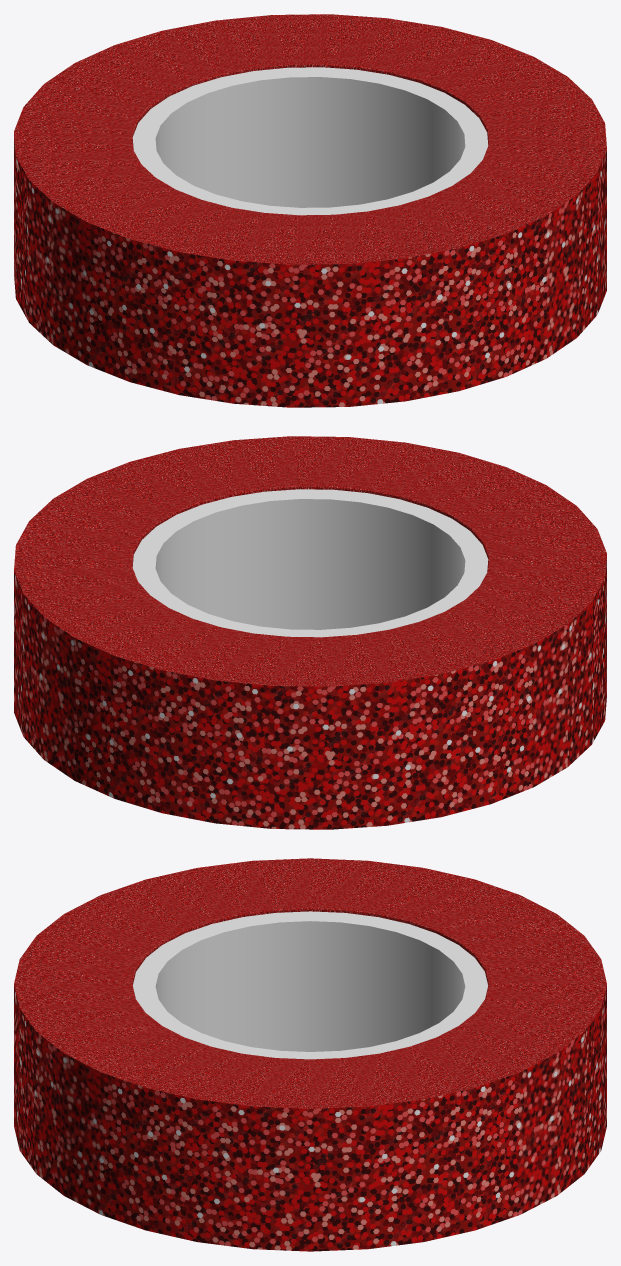
Rendered from Tape.fbx.
3 views of the same model, one above another, from view 1: azimuth 30°, elevation 25°; view 2: azimuth 150°, elevation 25°; view 3: azimuth 270°, elevation 25° (orthographic).
Parts seen in each view (by area): view 1: Tap, Tape_Roll1; view 2: Tap, Tape_Roll1; view 3: Tap, Tape_Roll1.
Boxes of the visible parts, box(x1,y1,x2,y2) form: Tap: box(14, 14, 606, 407); Tape_Roll1: box(132, 67, 488, 215); Tap: box(14, 436, 606, 829); Tape_Roll1: box(132, 489, 488, 637); Tap: box(14, 858, 606, 1251); Tape_Roll1: box(133, 911, 487, 1059).
Bounding box in the file's own units: 11.3 × 3 × 11.3.
2 materials, 1 textured.
